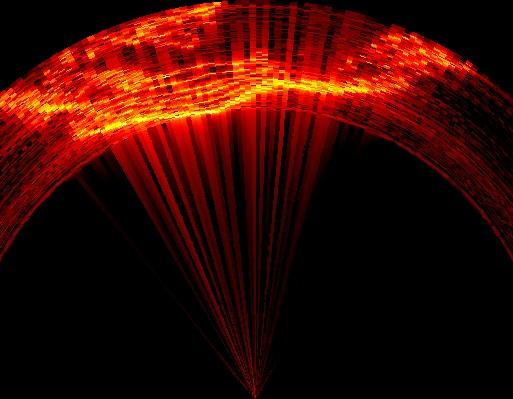shipwreck: (5, 2, 470, 135)
